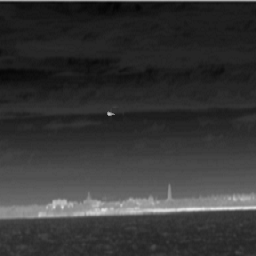Target: (106, 111, 116, 116)
